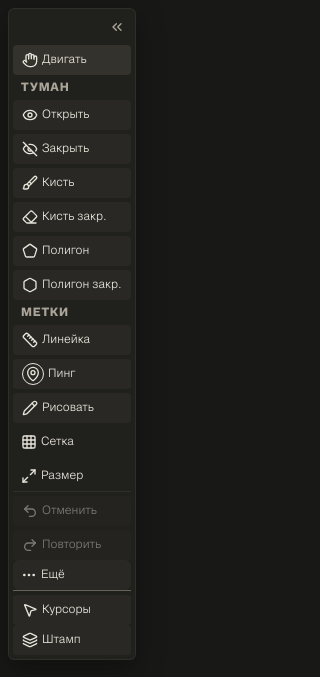
Test case: MapToolbar — панель инструментов карты (UIX-407) › сворачивает и разворачивает панель при клике на кнопку сворачивания
The width and height of the screenshot is (320, 677).
Click the button named "Свернуть панель до значков": (117, 27) [103,13,131,41]
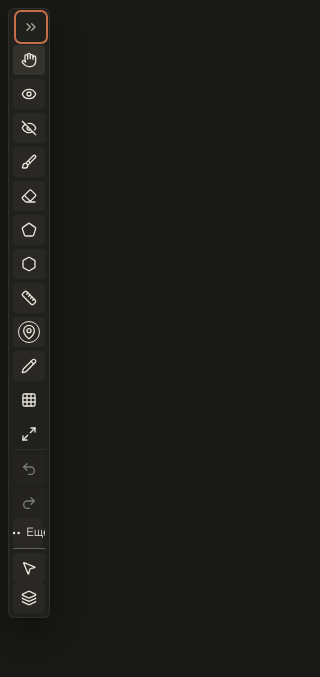
Check: the button named "Свернуть панель до значков" is collapsed, box [17,13,45,41]
